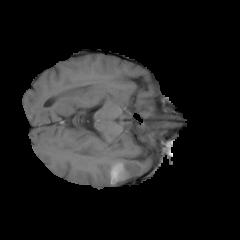glioma: (102, 153, 149, 186)
